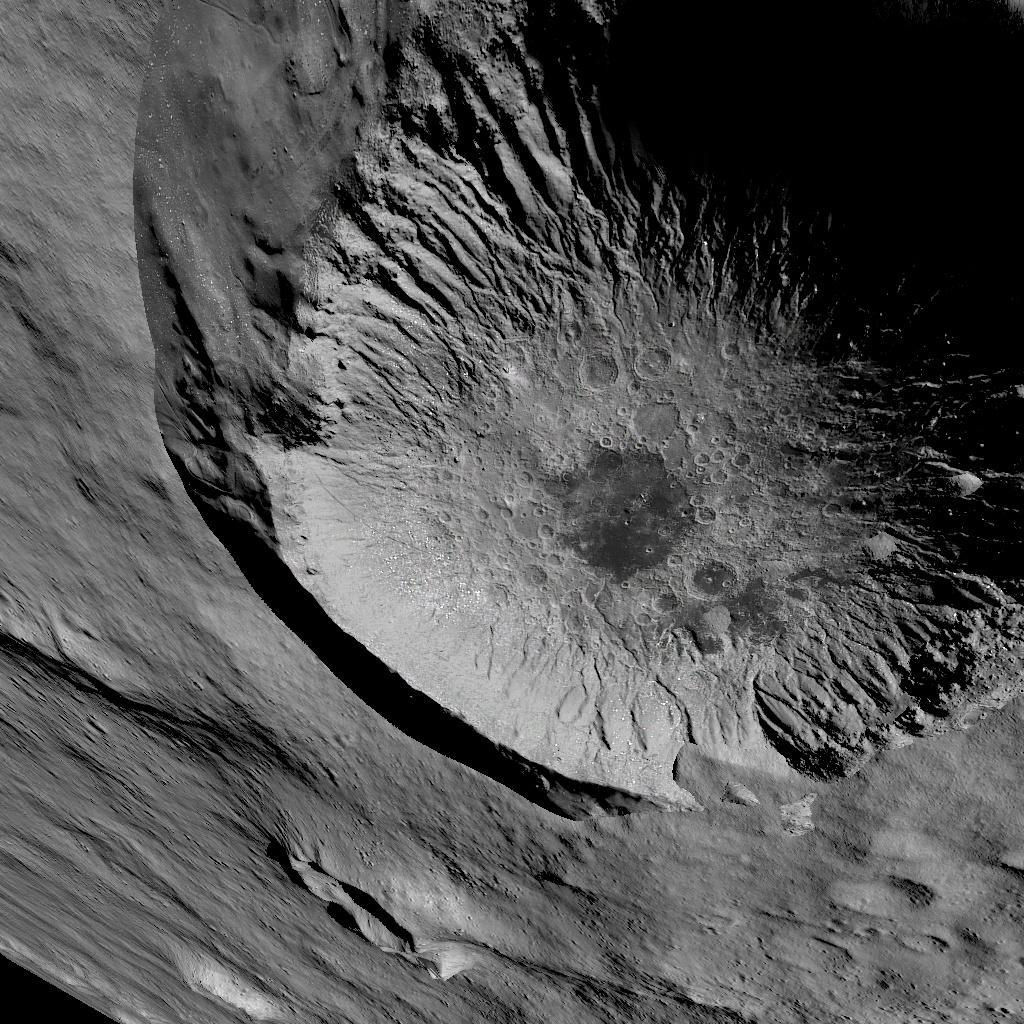Crater: (83, 2, 1021, 834), (260, 844, 428, 996)
Plan surface: (506, 857, 1022, 1024)
